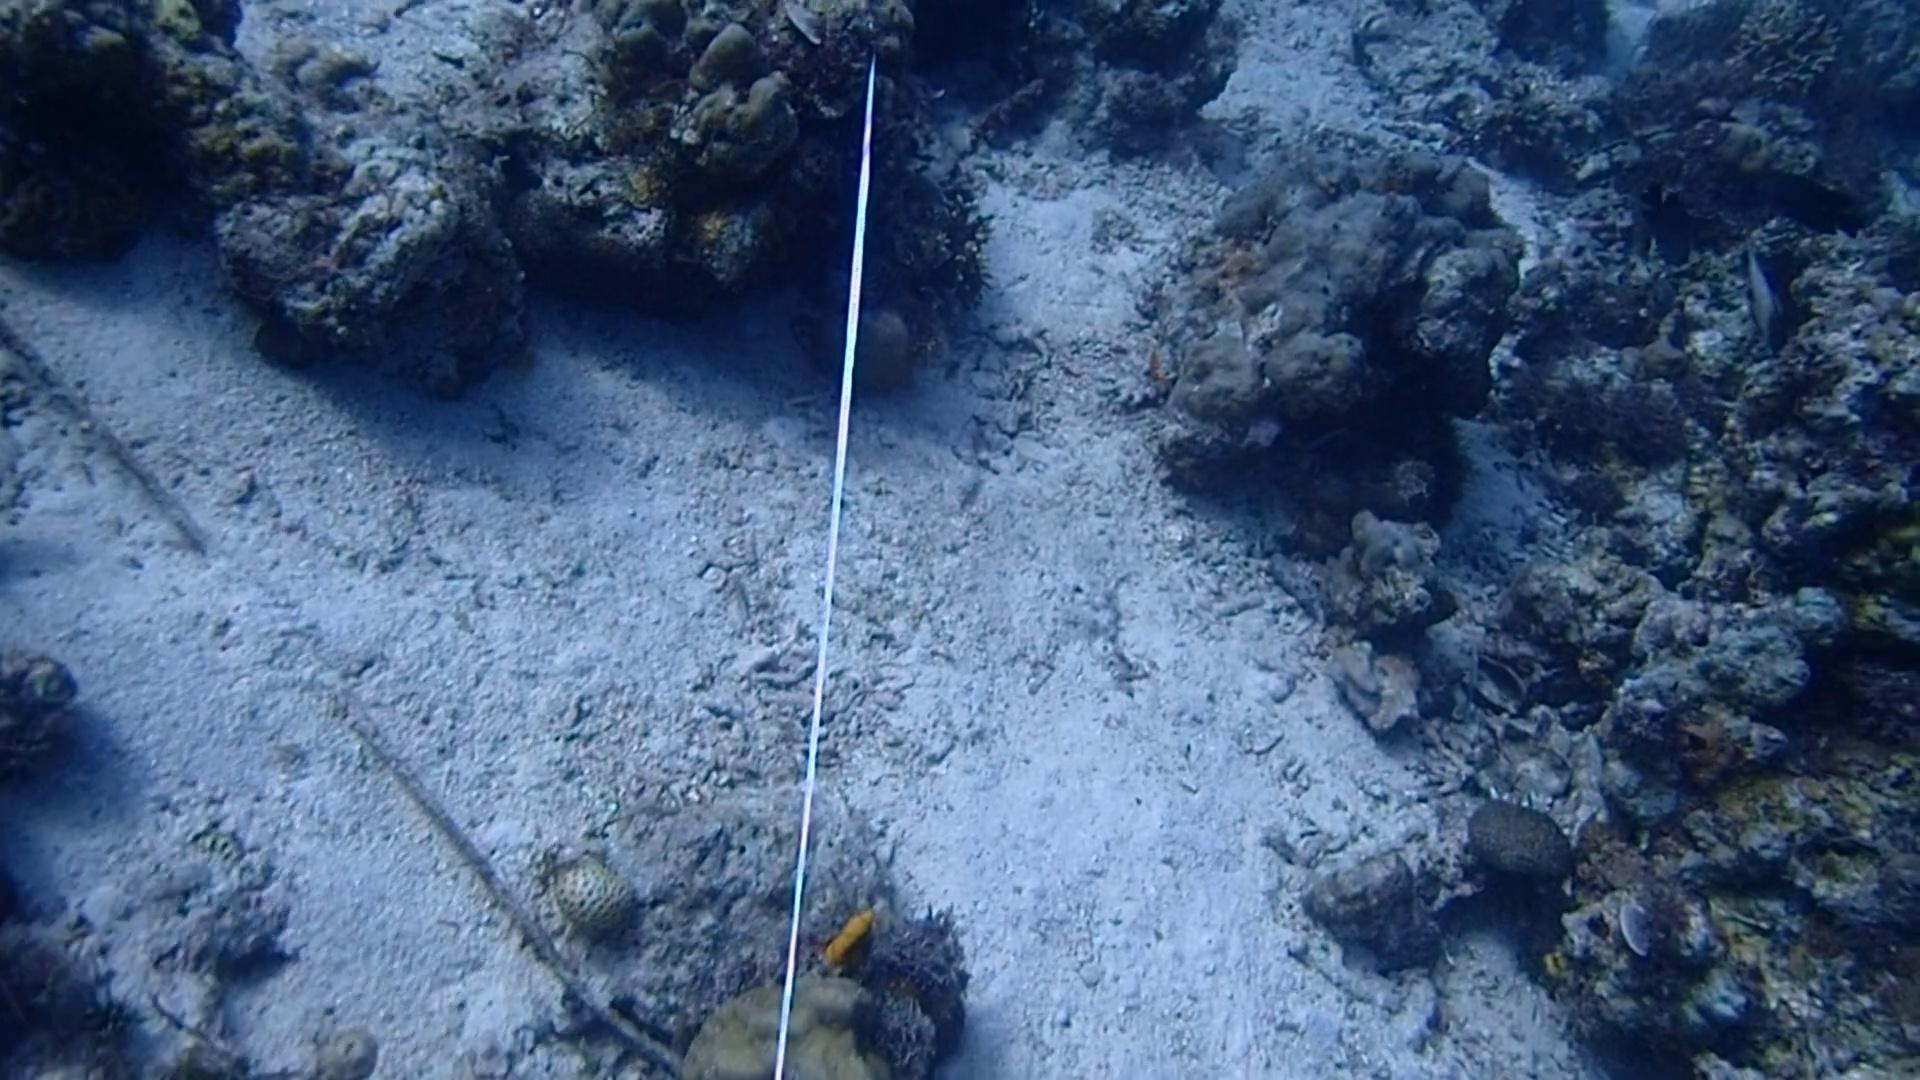Dark Fish: (1733, 150, 1863, 239), (1631, 173, 1702, 268)
